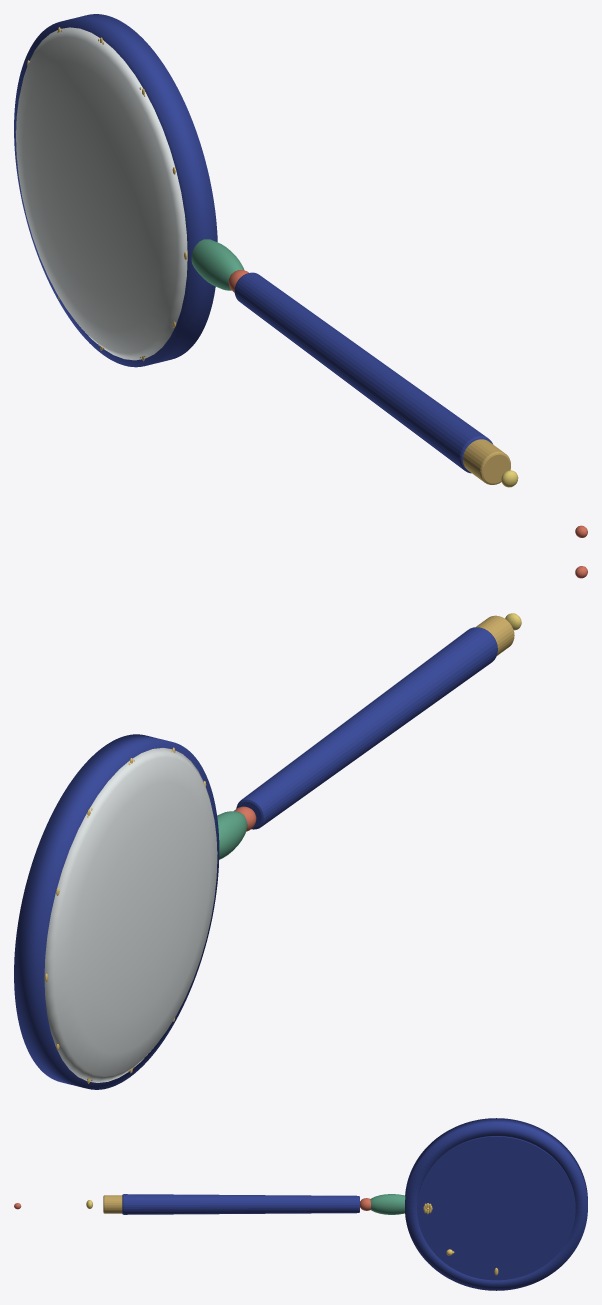
Rendered from dpm_xizi_handmirror.fbx.
The picture shows the model from 3 angles, top to bottom: view 1: azimuth 30°, elevation 25°; view 2: azimuth 150°, elevation 25°; view 3: azimuth 270°, elevation 25°; orthographic projection. The views are drawn at different scales.
Parts seen in each view (by area): view 1: 02_玻璃镜面_MirrorGlass, 04_蓝珐琅镜圈_EnamelRim, 07_蓝珐琅柄_EnamelHandle, 05_染牙连接器_IvoryNeck, 08_铜镀金箍_Ferrule; view 2: 02_玻璃镜面_MirrorGlass, 04_蓝珐琅镜圈_EnamelRim, 07_蓝珐琅柄_EnamelHandle, 05_染牙连接器_IvoryNeck, 08_铜镀金箍_Ferrule; view 3: 03_镜背底板_蓝珐琅地, 04_蓝珐琅镜圈_EnamelRim, 07_蓝珐琅柄_EnamelHandle, 05_染牙连接器_IvoryNeck, 08_铜镀金箍_Ferrule.
Part boxes in pixels (<box>): 02_玻璃镜面_MirrorGlass: <box>16,27,187,360</box>; 04_蓝珐琅镜圈_EnamelRim: <box>14,14,217,367</box>; 07_蓝珐琅柄_EnamelHandle: <box>234,272,492,473</box>; 05_染牙连接器_IvoryNeck: <box>191,239,244,290</box>; 08_铜镀金箍_Ferrule: <box>463,439,510,484</box>; 02_玻璃镜面_MirrorGlass: <box>44,748,217,1082</box>; 04_蓝珐琅镜圈_EnamelRim: <box>14,734,219,1089</box>; 07_蓝珐琅柄_EnamelHandle: <box>236,627,497,829</box>; 05_染牙连接器_IvoryNeck: <box>217,811,247,859</box>; 08_铜镀金箍_Ferrule: <box>476,615,514,655</box>; 03_镜背底板_蓝珐琅地: <box>417,1136,575,1280</box>; 04_蓝珐琅镜圈_EnamelRim: <box>405,1118,587,1290</box>; 07_蓝珐琅柄_EnamelHandle: <box>122,1194,359,1214</box>; 05_染牙连接器_IvoryNeck: <box>370,1194,405,1214</box>; 08_铜镀金箍_Ferrule: <box>103,1195,122,1213</box>.
Bounding box in the file's own units: 0.0217 × 0.127 × 0.398.
